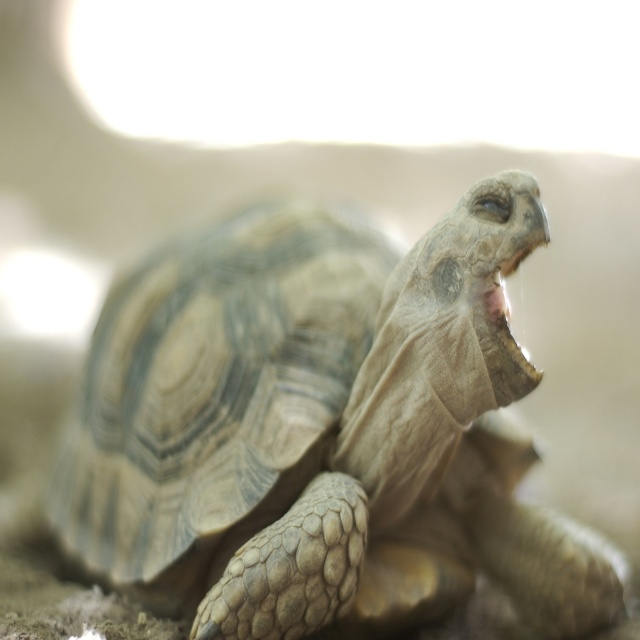Sea turtle: (0, 165, 631, 639)
